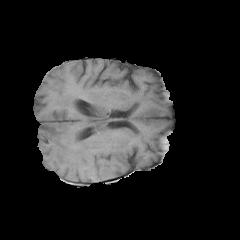glioma: (38, 97, 140, 179)
